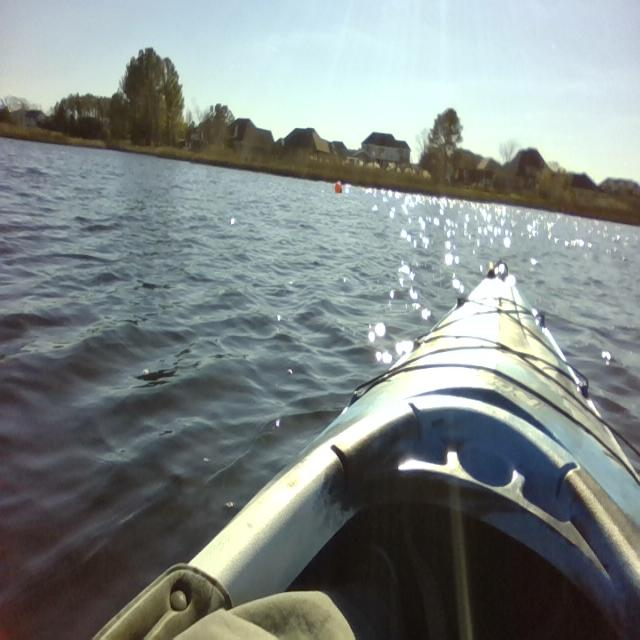Buoy: (331, 179, 346, 197)
